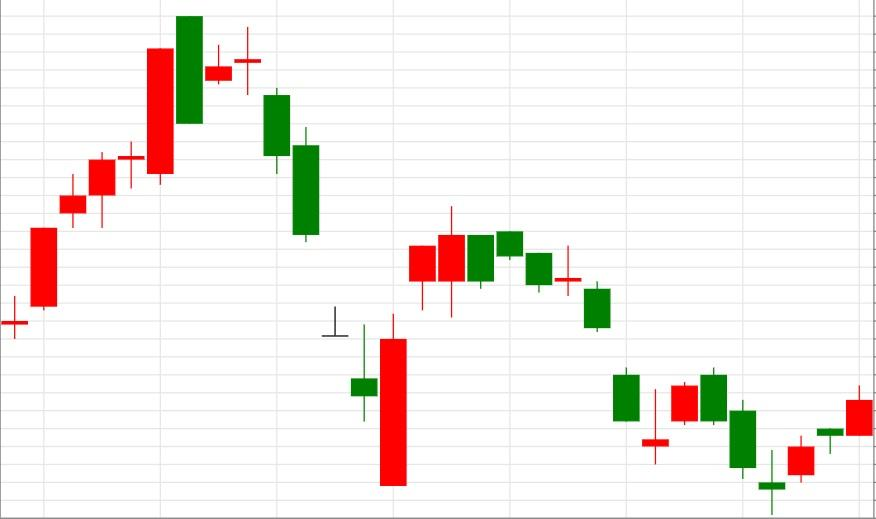bullish_engulfing_rise: (234, 27, 408, 486)
